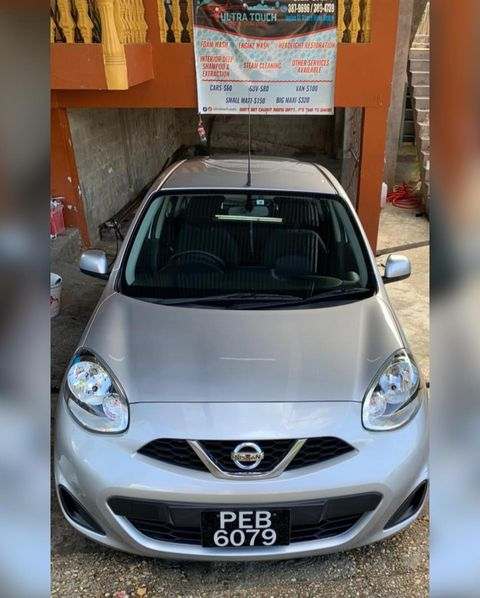License-Plate: (201, 511, 288, 547)
